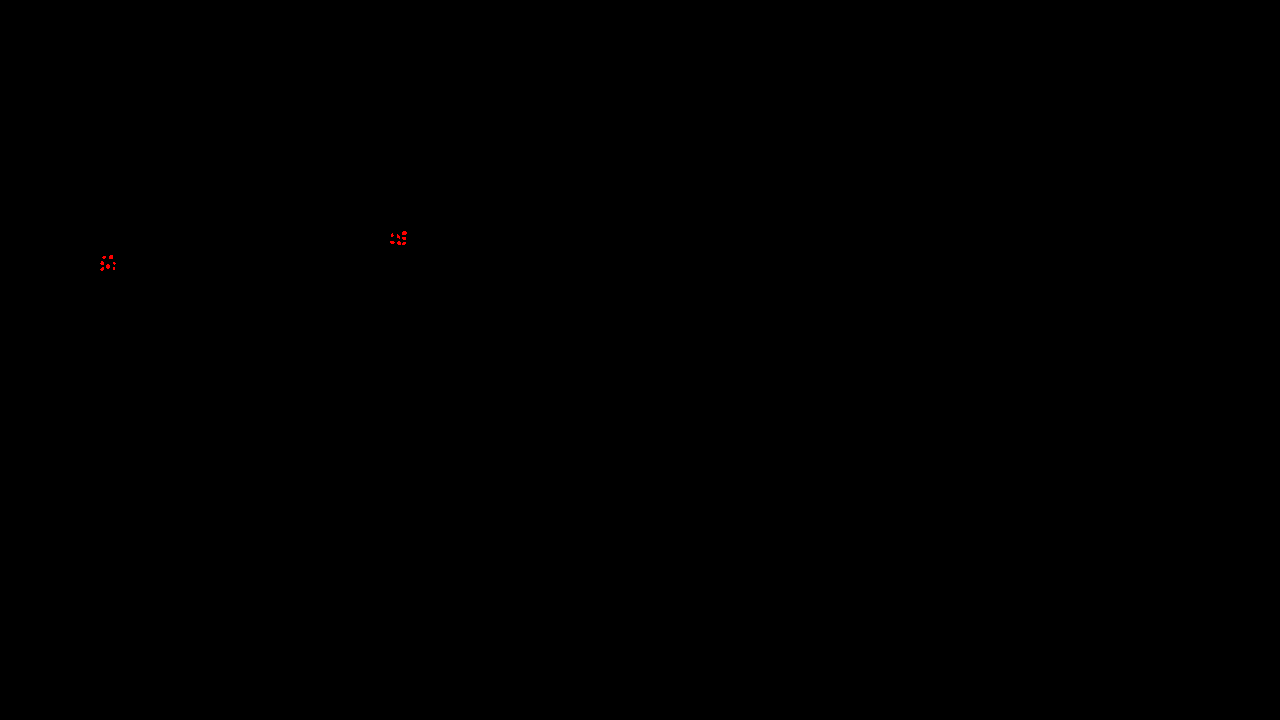Target: (402, 231, 407, 235), (106, 264, 110, 269), (397, 241, 401, 245), (109, 255, 113, 259), (100, 261, 104, 265), (100, 267, 104, 271), (397, 234, 400, 239), (390, 241, 395, 244), (391, 233, 394, 237), (402, 237, 406, 240), (402, 242, 406, 245), (102, 256, 106, 259), (113, 262, 116, 265), (113, 267, 115, 270)
